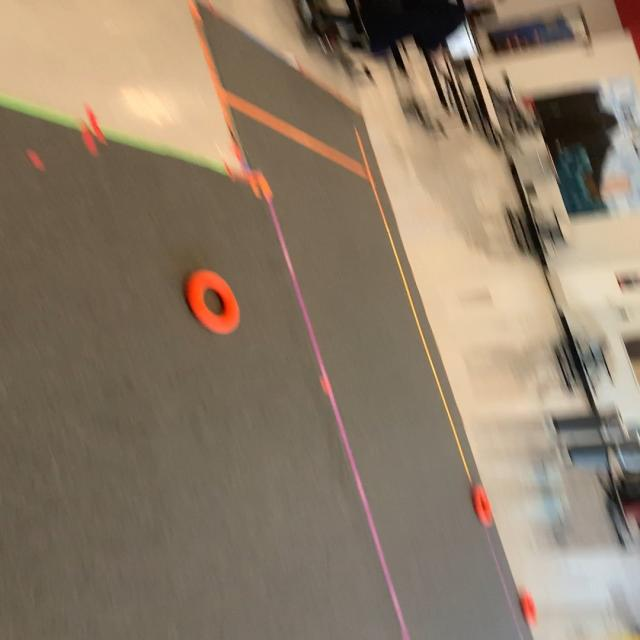notes: (188, 270, 245, 334), (472, 484, 495, 524), (519, 589, 539, 624)
